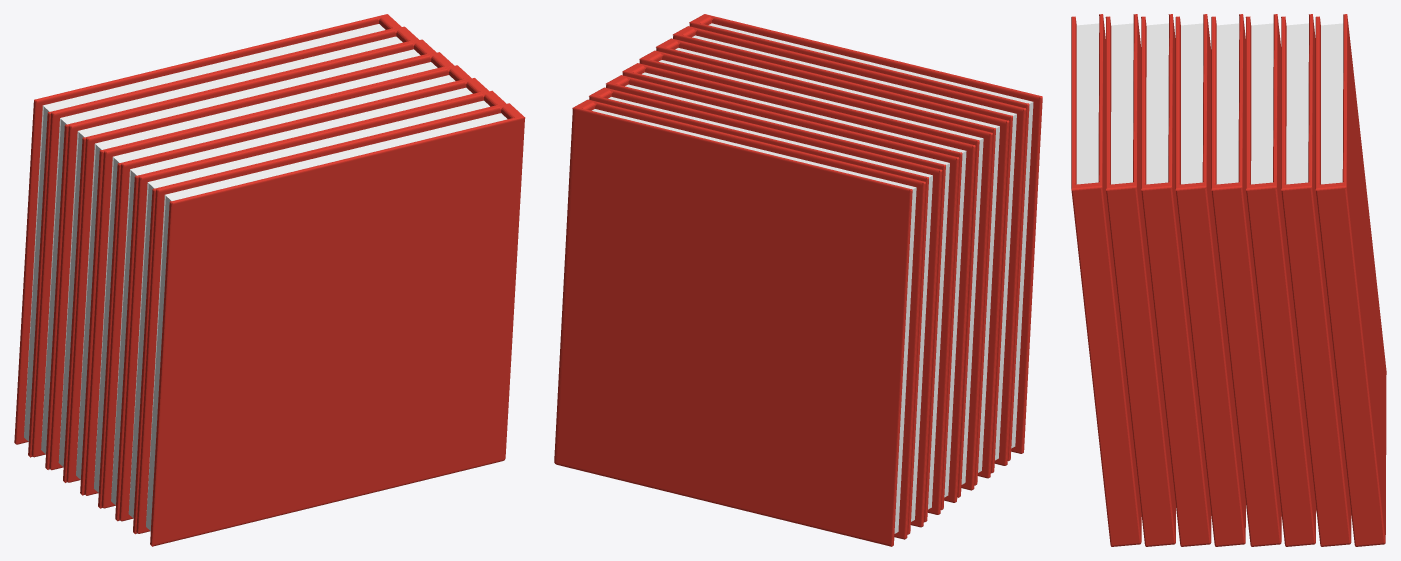
Rendered from books-1.glb.
The picture shows the model from 3 angles, left to right: view 1: azimuth 30°, elevation 25°; view 2: azimuth 150°, elevation 25°; view 3: azimuth 270°, elevation 25°; orthographic projection. The views are drawn at different scales.
Parts seen in each view (by area): view 1: Book-1-Cover.001, Book-5-Cover, Book-3-Cover, Book-8-Cover, Book-6-Cover, Book-2-Cover, Book-9-Cover, Book-4-Cover, Book-8-Paper, Book-3-Paper, Book-6-Paper, Book-9-Paper (+4 smaller); view 2: Book-9-Cover, Book-4-Cover, Book-6-Cover, Book-2-Cover, Book-8-Cover, Book-3-Cover, Book-5-Cover, Book-1-Cover.001, Book-1-Paper, Book-5-Paper, Book-9-Paper, Book-4-Paper (+4 smaller); view 3: Book-9-Cover, Book-4-Cover, Book-6-Cover, Book-2-Cover, Book-3-Cover, Book-8-Cover, Book-1-Cover.001, Book-5-Cover, Book-5-Paper, Book-1-Paper, Book-3-Paper, Book-8-Paper (+4 smaller).
Boxes of the visible parts, x1,y1,x2,y2 form: Book-1-Cover.001: (136,103,525,546); Book-5-Cover: (66,52,454,495); Book-3-Cover: (101,78,488,521); Book-8-Cover: (31,26,418,469); Book-6-Cover: (49,39,436,482); Book-2-Cover: (119,90,506,534); Book-9-Cover: (14,14,401,457); Book-4-Cover: (84,65,471,508); Book-8-Paper: (41,36,402,453); Book-3-Paper: (111,87,472,505); Book-6-Paper: (58,49,420,466); Book-9-Paper: (24,24,385,441); Book-9-Cover: (554,99,925,546); Book-4-Cover: (639,50,992,497); Book-6-Cover: (606,75,959,522); Book-2-Cover: (673,26,1026,473); Book-8-Cover: (589,87,942,534); Book-3-Cover: (656,38,1009,485); Book-5-Cover: (622,63,975,510); Book-1-Cover.001: (689,14,1042,461); Book-1-Paper: (708,23,1033,448); Book-5-Paper: (642,72,966,497); Book-9-Paper: (592,109,916,533); Book-4-Paper: (659,60,983,484); Book-9-Cover: (1315,14,1386,546); Book-4-Cover: (1175,14,1245,546); Book-6-Cover: (1245,14,1316,546); Book-2-Cover: (1105,14,1175,546); Book-3-Cover: (1141,14,1211,546); Book-8-Cover: (1281,14,1351,546); Book-1-Cover.001: (1071,14,1141,546); Book-5-Cover: (1211,14,1281,546); Book-5-Paper: (1216,23,1239,184); Book-1-Paper: (1076,23,1099,184); Book-3-Paper: (1146,23,1168,184); Book-8-Paper: (1286,23,1308,184).
Bounding box in the file's own units: 1.22 × 1.19 × 0.9394.
